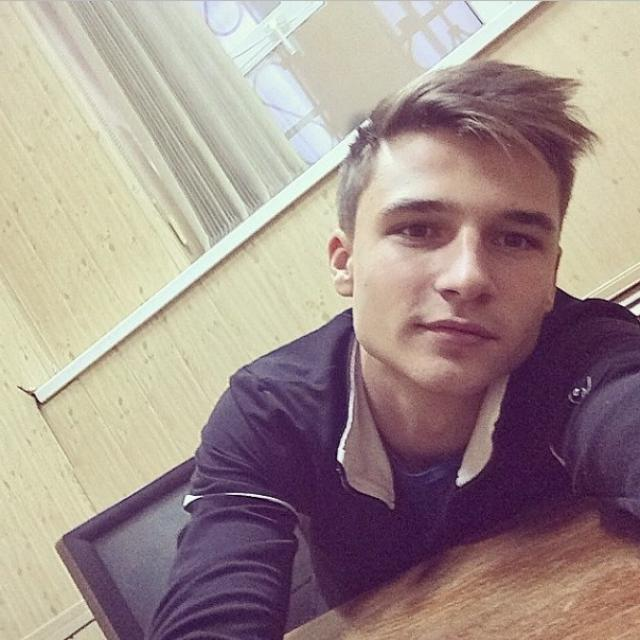earlobe: (327, 228, 355, 296), (545, 246, 563, 314)
